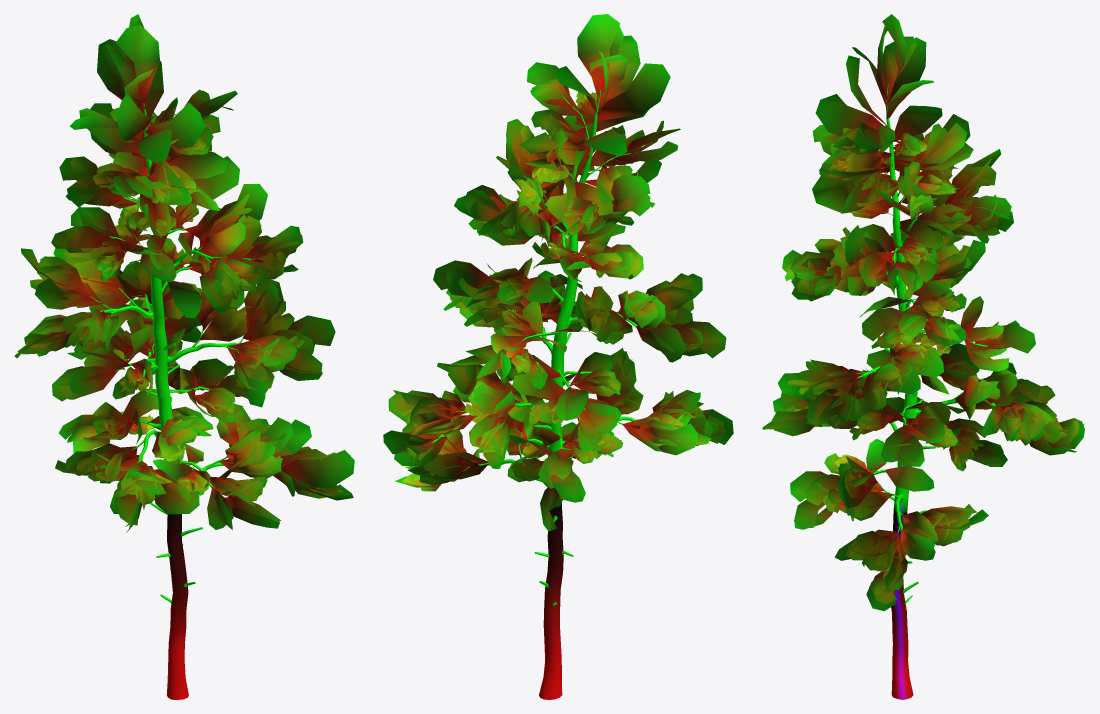
File: Pine_3.fbx
3 views of the same model, side by side, from view 1: azimuth 30°, elevation 25°; view 2: azimuth 150°, elevation 25°; view 3: azimuth 270°, elevation 25° (orthographic). The views are drawn at different scales.
Visible parts, largest first — view 1: Pine_3; view 2: Pine_3; view 3: Pine_3.
Part boxes in pixels (x1,y1,x2,y2): Pine_3: (14, 14, 354, 699); Pine_3: (383, 14, 733, 699); Pine_3: (762, 14, 1084, 699).
Size of the model in its own units: 8 by 15.88 by 7.09.
